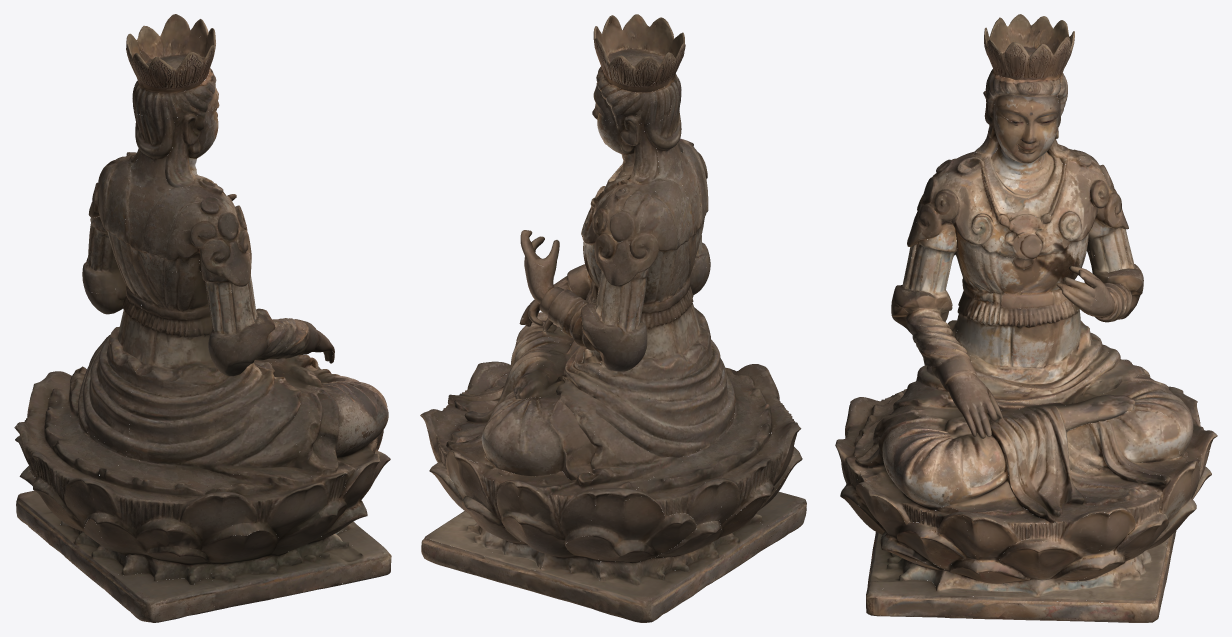
File: f5-avalokiteshvara.glb
3 renders of one model, left to right at view 1: azimuth 30°, elevation 25°; view 2: azimuth 150°, elevation 25°; view 3: azimuth 270°, elevation 25°, orthographic.
Visible parts, largest first — view 1: tripo_node_3e2f8865-13e4-4333-93f4-8fda2df21a89; view 2: tripo_node_3e2f8865-13e4-4333-93f4-8fda2df21a89; view 3: tripo_node_3e2f8865-13e4-4333-93f4-8fda2df21a89.
Boxes of the visible parts, x1,y1,x2,y2 form: tripo_node_3e2f8865-13e4-4333-93f4-8fda2df21a89: (14, 14, 391, 622); tripo_node_3e2f8865-13e4-4333-93f4-8fda2df21a89: (420, 14, 806, 622); tripo_node_3e2f8865-13e4-4333-93f4-8fda2df21a89: (835, 14, 1217, 622).
Size of the model in its own units: 0.6553 by 1 by 0.6617.
Materials: 1 (1 with a texture image).
